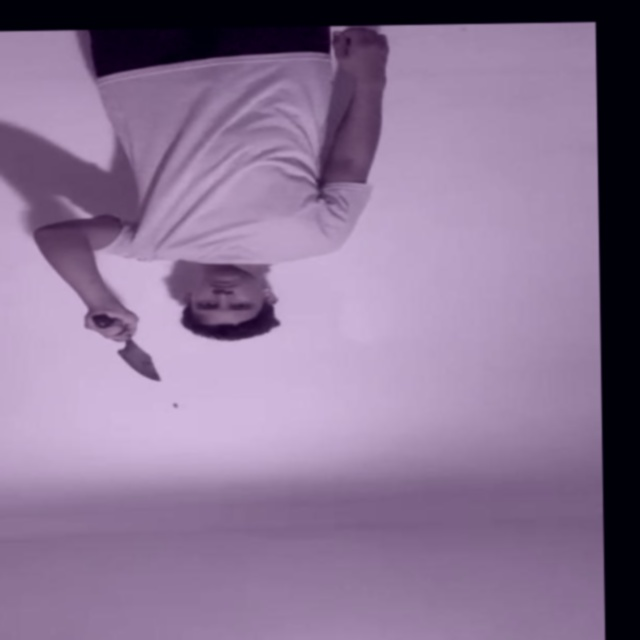Sharp-Object: (113, 340, 161, 384)
